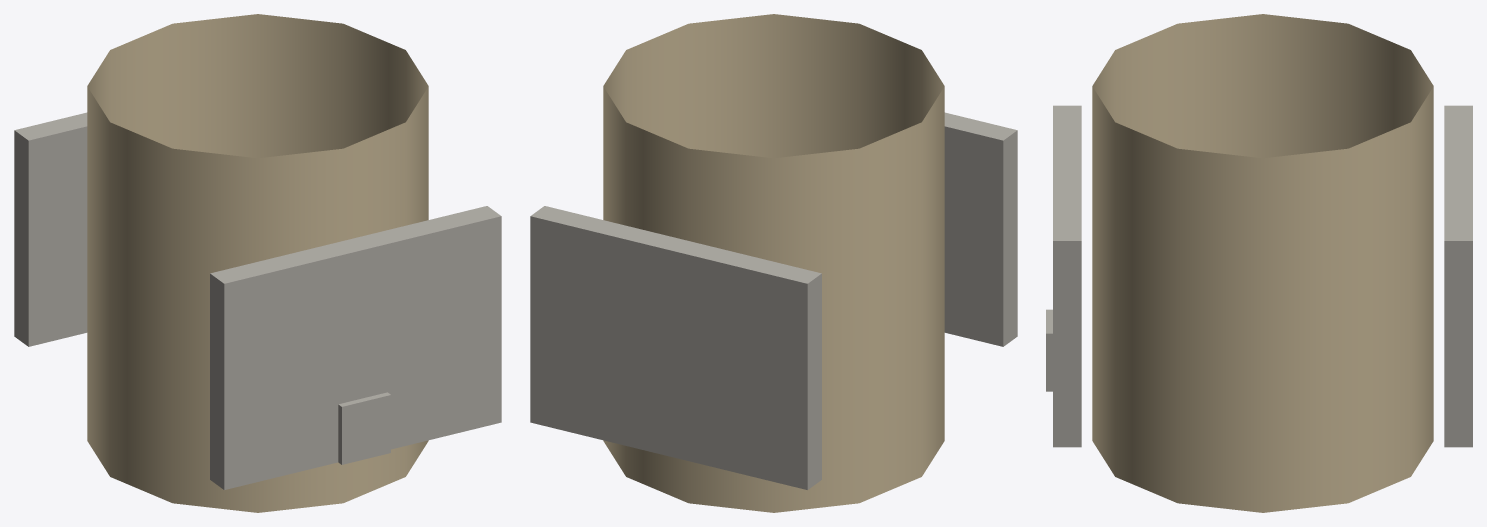
File: toda_mund_hut.glb
3 renders of one model, left to right at view 1: azimuth 30°, elevation 25°; view 2: azimuth 150°, elevation 25°; view 3: azimuth 270°, elevation 25°, orthographic.
Parts seen in each view (by area): view 1: VaultedRoof_Node, FrontWall_Node, RearWall_Node, TinyEntrance_Node; view 2: VaultedRoof_Node, RearWall_Node, FrontWall_Node; view 3: VaultedRoof_Node, FrontWall_Node, RearWall_Node, TinyEntrance_Node.
Boxes of the visible parts, x1=… form: VaultedRoof_Node: x1=87, y1=14, x2=428, y2=512; FrontWall_Node: x1=210, y1=206, x2=501, y2=489; RearWall_Node: x1=14, y1=112, x2=87, y2=346; TinyEntrance_Node: x1=338, y1=392, x2=390, y2=464; VaultedRoof_Node: x1=603, y1=14, x2=944, y2=512; RearWall_Node: x1=530, y1=206, x2=821, y2=489; FrontWall_Node: x1=944, y1=112, x2=1017, y2=346; VaultedRoof_Node: x1=1092, y1=14, x2=1433, y2=512; FrontWall_Node: x1=1053, y1=105, x2=1081, y2=447; RearWall_Node: x1=1444, y1=105, x2=1472, y2=447; TinyEntrance_Node: x1=1046, y1=309, x2=1052, y2=391.
Size of the model in its own units: 4.8 by 5.5 by 6.
